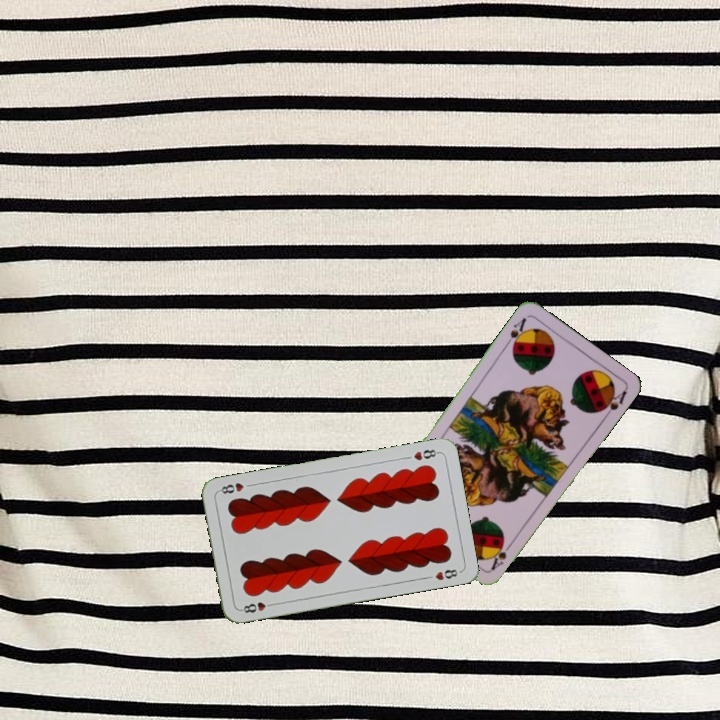H8: (237, 598, 277, 615), (409, 445, 442, 463)
SA: (501, 314, 530, 352), (487, 537, 516, 573)
